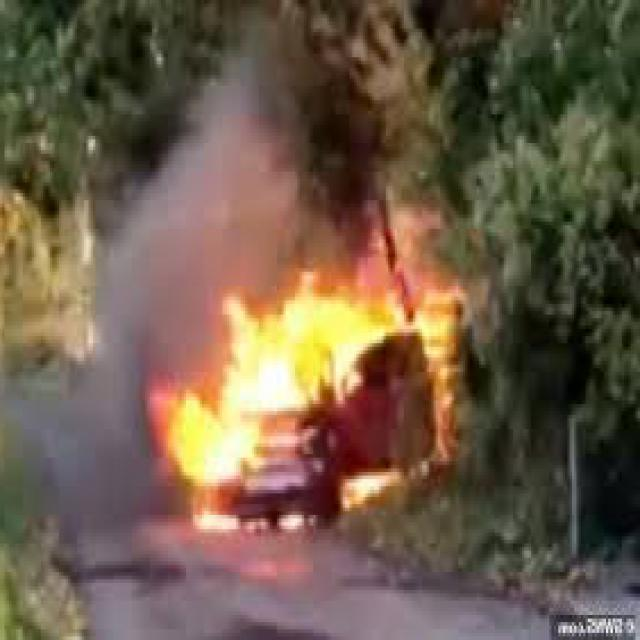Fire: (165, 244, 493, 536)
Smoke: (60, 35, 320, 370), (23, 307, 146, 545)
